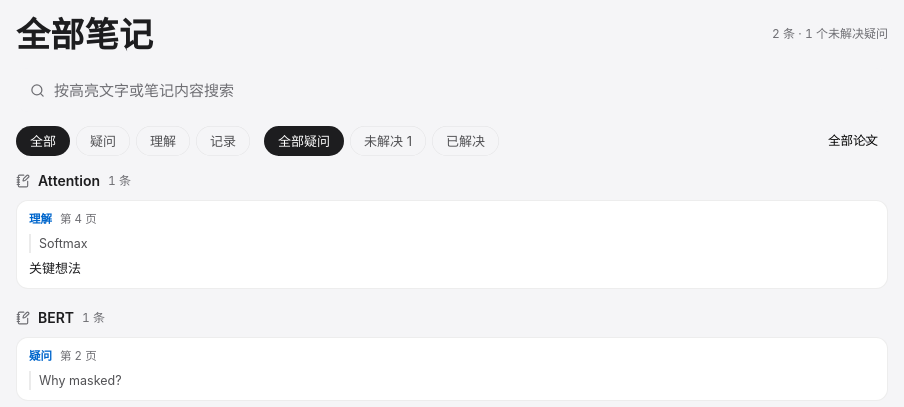
Scenario: NotesView › filters by a search term
The image size is (904, 407).
Type "masked" into the search field named "搜索笔记". click: (464, 90)
box: [53,68,874,112]
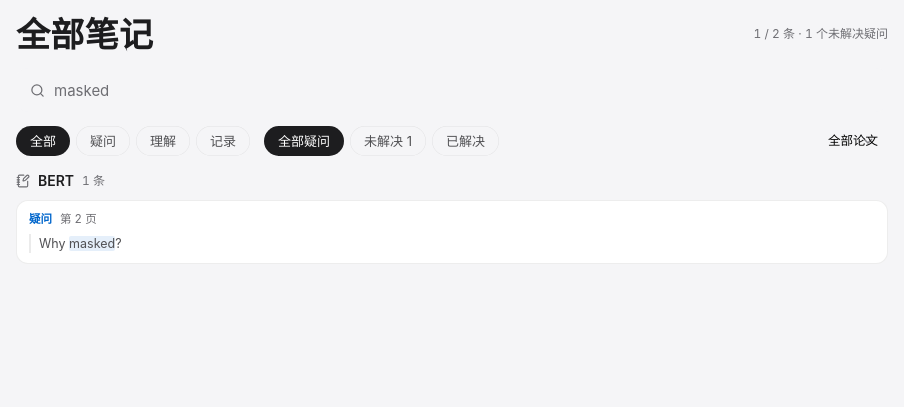
Expected: the text "masked" is shown, [69,236,115,251]
Now the button "关键想法" is gone
